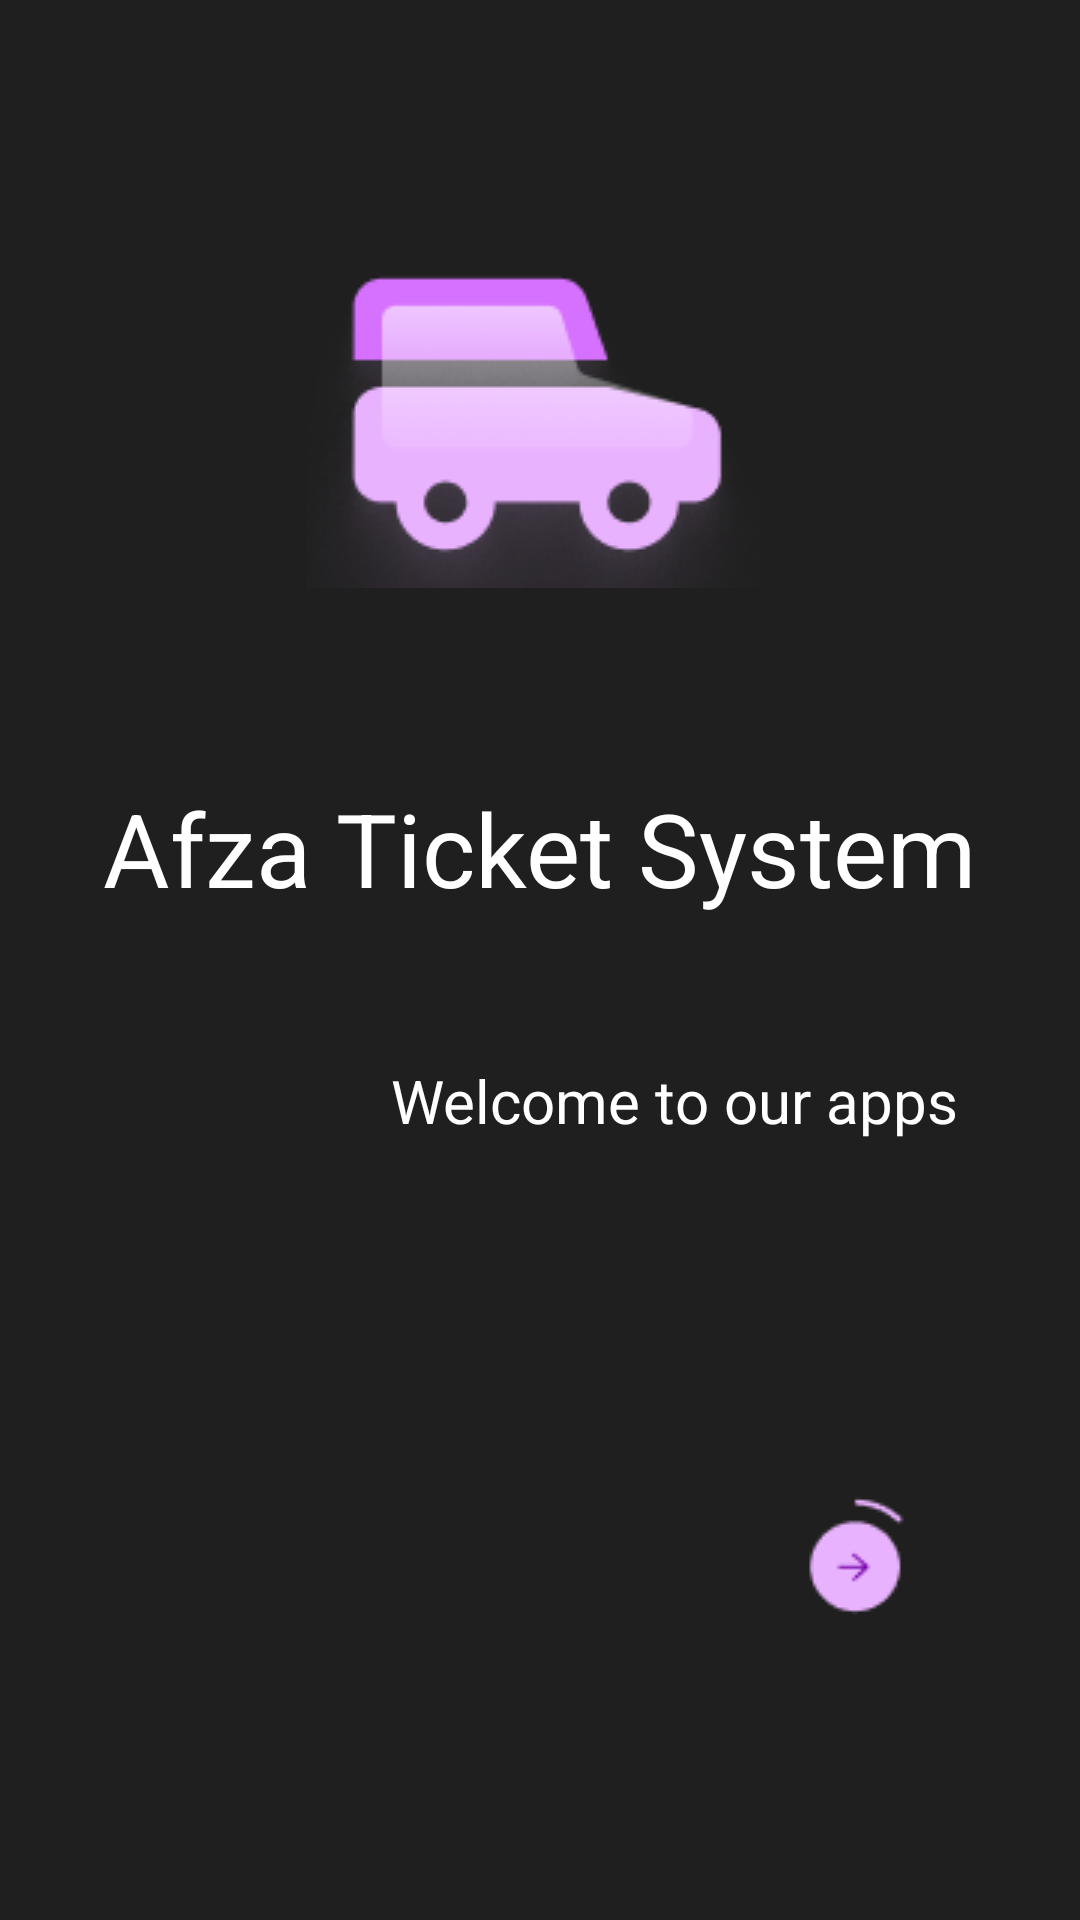

Named icons in this screenshot (1080x1920) and their bounding boxes, (x1, y1, x2, y2):
next: (809, 1499, 904, 1613)
